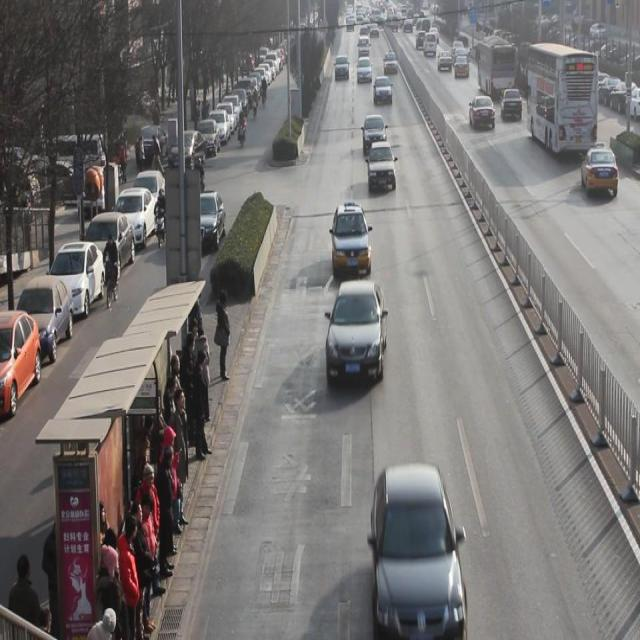car: (372, 467, 469, 632), (326, 281, 387, 385), (332, 204, 372, 277), (582, 147, 619, 196), (368, 140, 396, 192), (363, 113, 388, 156), (469, 96, 496, 132), (502, 87, 524, 122), (373, 76, 393, 107), (358, 55, 373, 84), (455, 54, 471, 80)
van: (529, 42, 597, 158), (478, 36, 516, 100)
